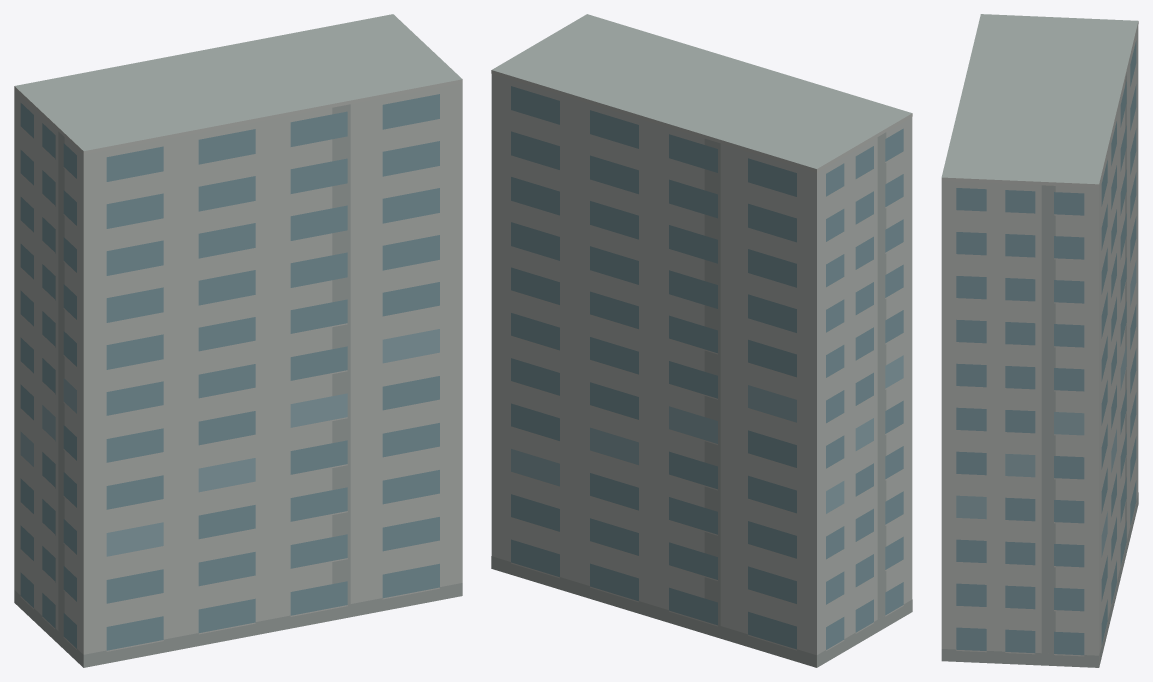
File: residential-32e92467-1d1c-4e1c-acbf-5772087458e5.glb
The picture shows the model from 3 angles, left to right: view 1: azimuth 30°, elevation 25°; view 2: azimuth 150°, elevation 25°; view 3: azimuth 270°, elevation 25°; orthographic projection. The views are drawn at different scales.
Parts seen in each view (by area): view 1: residential-32e92467-1d1c-4e1c-acbf-5772087458e5.tmp; view 2: residential-32e92467-1d1c-4e1c-acbf-5772087458e5.tmp; view 3: residential-32e92467-1d1c-4e1c-acbf-5772087458e5.tmp.
Boxes of the visible parts, bbox=[...] form: residential-32e92467-1d1c-4e1c-acbf-5772087458e5.tmp: bbox=[14, 14, 462, 667]; residential-32e92467-1d1c-4e1c-acbf-5772087458e5.tmp: bbox=[491, 14, 912, 667]; residential-32e92467-1d1c-4e1c-acbf-5772087458e5.tmp: bbox=[941, 14, 1138, 667].
Size of the model in its own units: 25.69 by 34 by 12.56.
